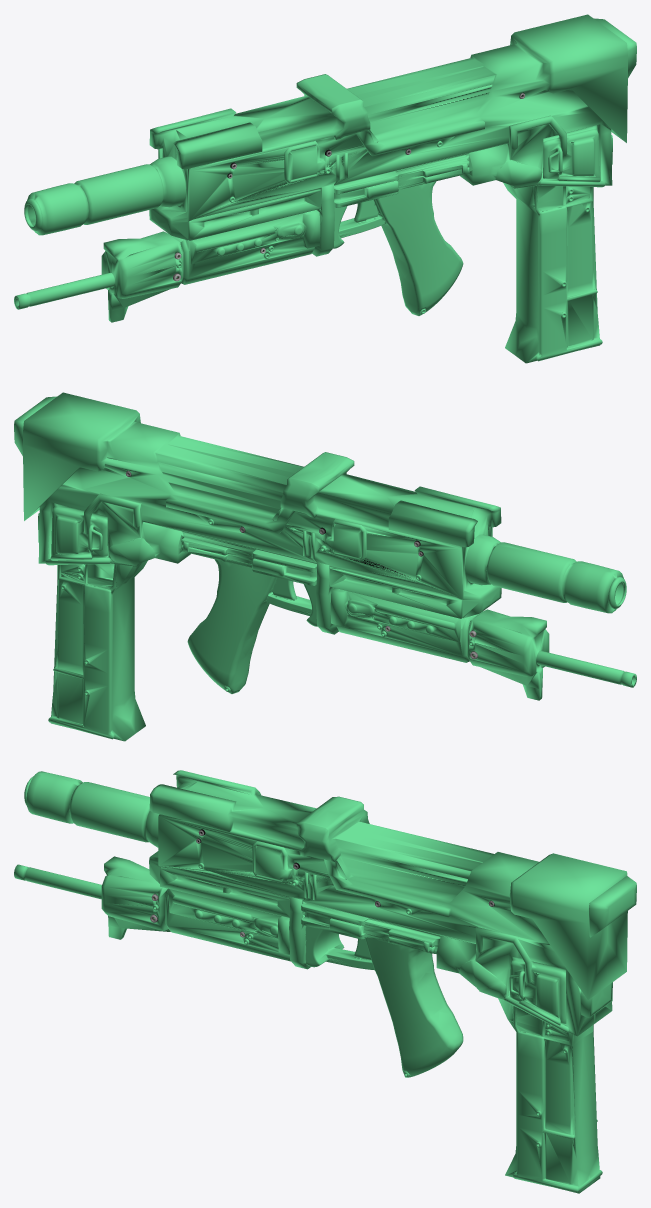
Rendered from skynets_plasma_rifle.fbx.
3 views of the same model, one above another, from view 1: azimuth 30°, elevation 25°; view 2: azimuth 150°, elevation 25°; view 3: azimuth 330°, elevation 25° (orthographic).
Parts seen in each view (by area): view 1: node_0775baa0_3abf_451a_8fc1_08c66c1dd3f6_mesh1, node_6bd676a9_ceed_4054_80a7_1c8b4f58fe88_mesh0; view 2: node_0775baa0_3abf_451a_8fc1_08c66c1dd3f6_mesh1, node_6bd676a9_ceed_4054_80a7_1c8b4f58fe88_mesh0; view 3: node_0775baa0_3abf_451a_8fc1_08c66c1dd3f6_mesh1, node_6bd676a9_ceed_4054_80a7_1c8b4f58fe88_mesh0.
Boxes of the visible parts, x1,y1,x2,y2 form: node_0775baa0_3abf_451a_8fc1_08c66c1dd3f6_mesh1: [14, 14, 627, 363]; node_6bd676a9_ceed_4054_80a7_1c8b4f58fe88_mesh0: [594, 18, 636, 77]; node_0775baa0_3abf_451a_8fc1_08c66c1dd3f6_mesh1: [23, 392, 636, 741]; node_6bd676a9_ceed_4054_80a7_1c8b4f58fe88_mesh0: [14, 396, 56, 455]; node_0775baa0_3abf_451a_8fc1_08c66c1dd3f6_mesh1: [14, 770, 627, 1193]; node_6bd676a9_ceed_4054_80a7_1c8b4f58fe88_mesh0: [589, 876, 636, 937].
Bounding box in the file's own units: 74.18 × 36.65 × 8.9.
2 materials, 1 textured.
